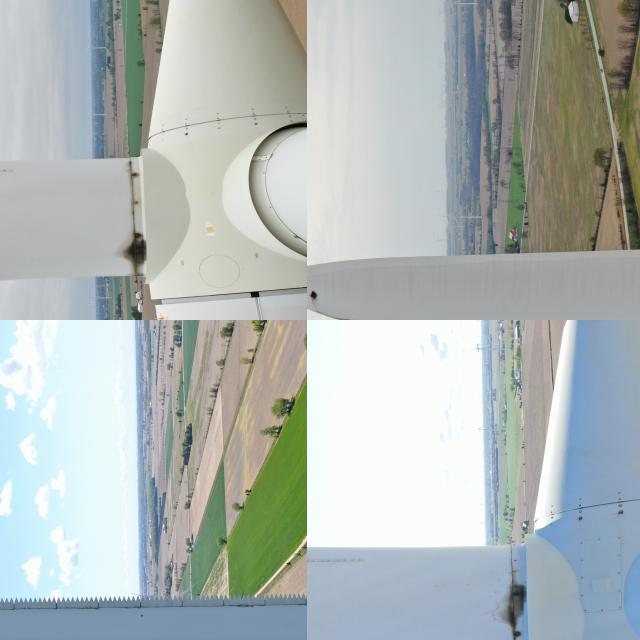damage: (475, 578, 539, 634), (108, 227, 152, 269), (116, 600, 144, 612), (71, 604, 101, 613), (307, 288, 323, 301), (225, 603, 267, 607)
